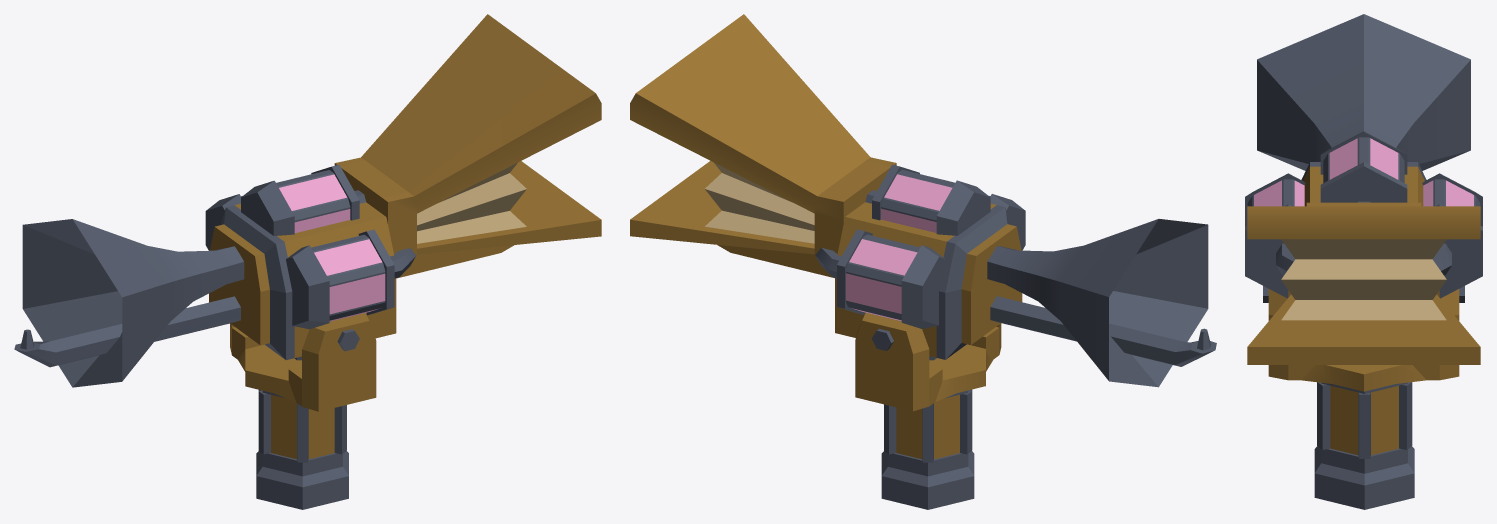
The model's file is turret2_remodel.fbx.
The picture shows the model from 3 angles, left to right: view 1: azimuth 30°, elevation 25°; view 2: azimuth 150°, elevation 25°; view 3: azimuth 270°, elevation 25°; orthographic projection. The views are drawn at different scales.
Parts seen in each view (by area): view 1: turret2new_head, turret2new_base; view 2: turret2new_head, turret2new_base; view 3: turret2new_head, turret2new_base.
Part boxes in pixels (x1,y1,x2,y2): turret2new_head: (14, 14, 601, 411); turret2new_base: (256, 356, 348, 509); turret2new_head: (630, 14, 1216, 411); turret2new_base: (881, 356, 974, 509); turret2new_head: (1245, 14, 1482, 391); turret2new_base: (1314, 382, 1414, 509).
Size of the model in its own units: 1.5 by 1.01 by 0.5397.
